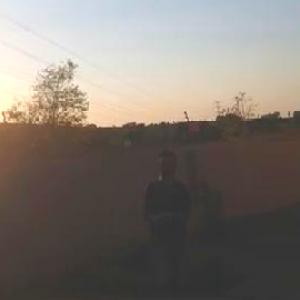follow: (136, 153, 194, 299)
